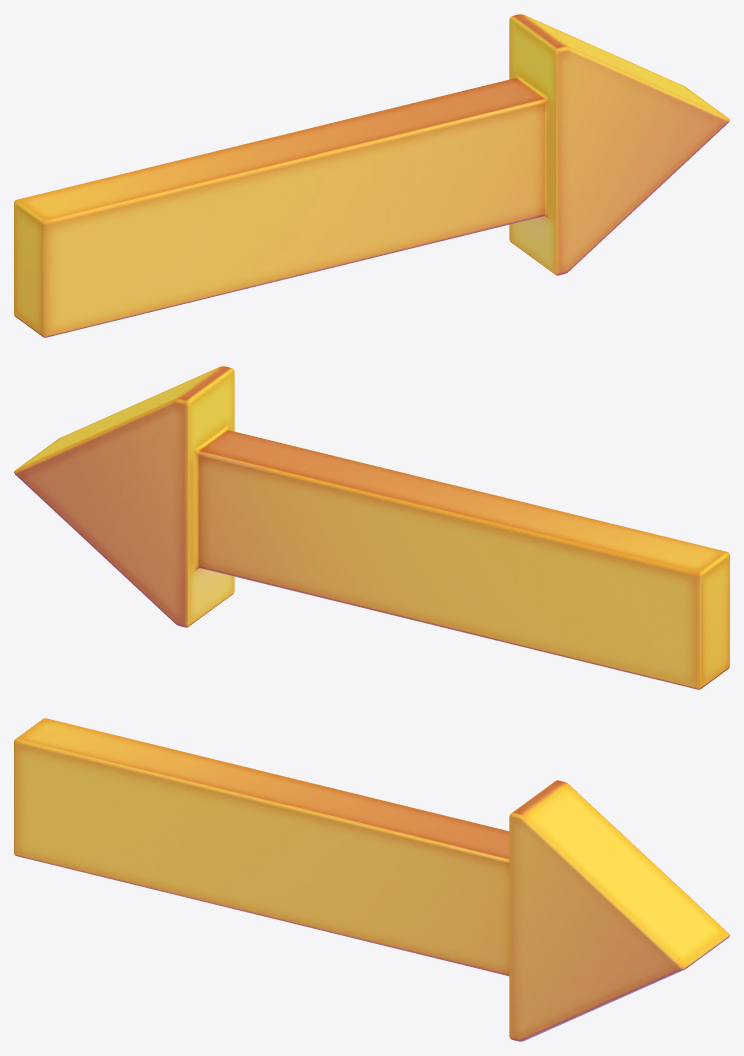
File: INCONOGRAPHY_arrow_v1.glb
The picture shows the model from 3 angles, top to bottom: view 1: azimuth 30°, elevation 25°; view 2: azimuth 150°, elevation 25°; view 3: azimuth 330°, elevation 25°; orthographic projection.
Visible parts, largest first — view 1: Cube.001; view 2: Cube.001; view 3: Cube.001.
Part boxes in pixels (box(x1,y1,x2,y2)): Cube.001: box(14, 14, 729, 337); Cube.001: box(14, 366, 729, 689); Cube.001: box(14, 718, 729, 1041).
Size of the model in its own units: 1.85 by 0.5931 by 0.2233.
Materials: 1 (1 with a texture image).
